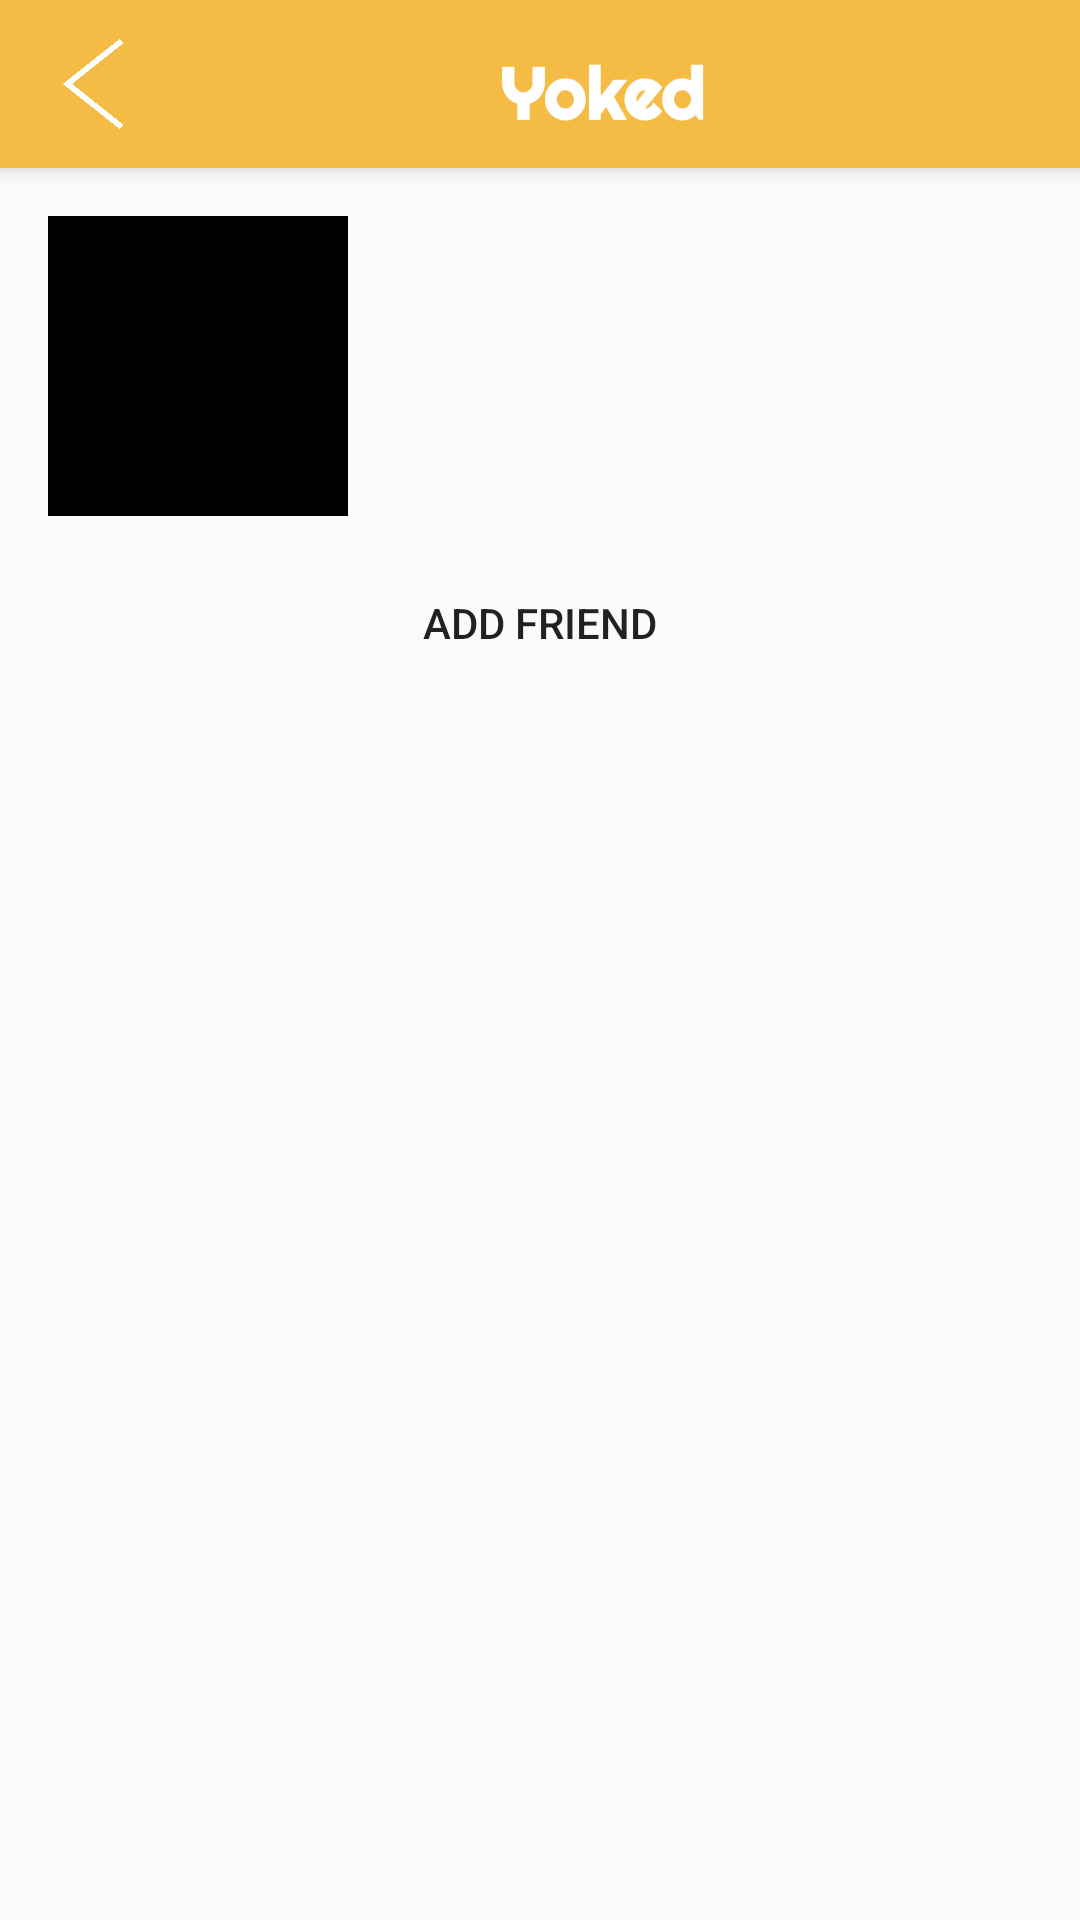

Icon click points for this 1080 x 1920 phone screenshot, format [x,y]:
back: [93,84]
